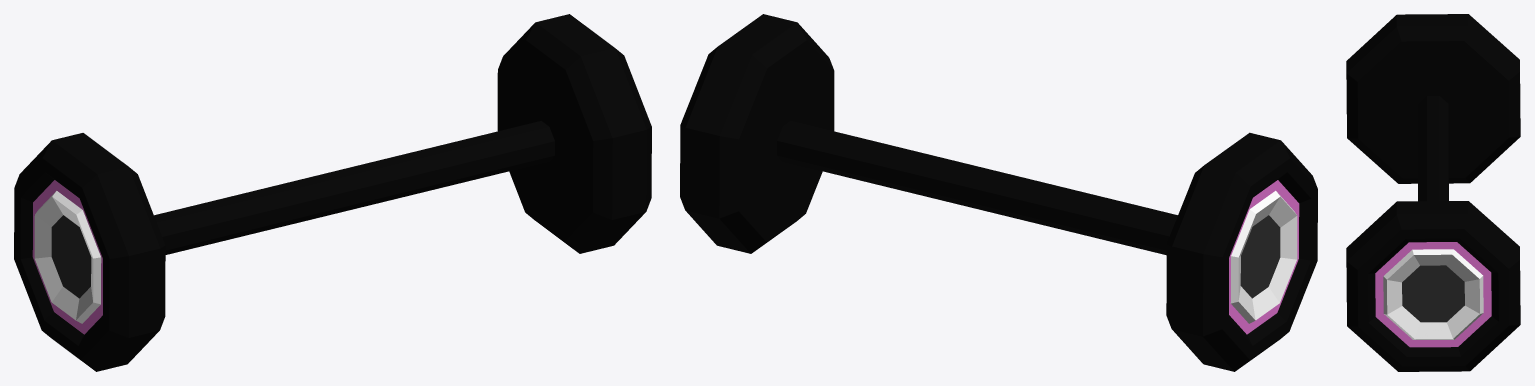
The model's file is Tires.fbx.
3 renders of one model, left to right at view 1: azimuth 30°, elevation 25°; view 2: azimuth 150°, elevation 25°; view 3: azimuth 270°, elevation 25°, orthographic. The views are drawn at different scales.
Visible parts, largest first — view 1: BackTire; view 2: BackTire; view 3: BackTire.
Boxes of the visible parts, <box> form: BackTire: <box>14,14,651,371</box>; BackTire: <box>680,14,1317,371</box>; BackTire: <box>1346,14,1520,371</box>.
Size of the model in its own units: 211 by 73.97 by 73.97.
